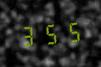five: (40, 20, 60, 46), (61, 19, 81, 44)
three: (18, 22, 38, 47)
